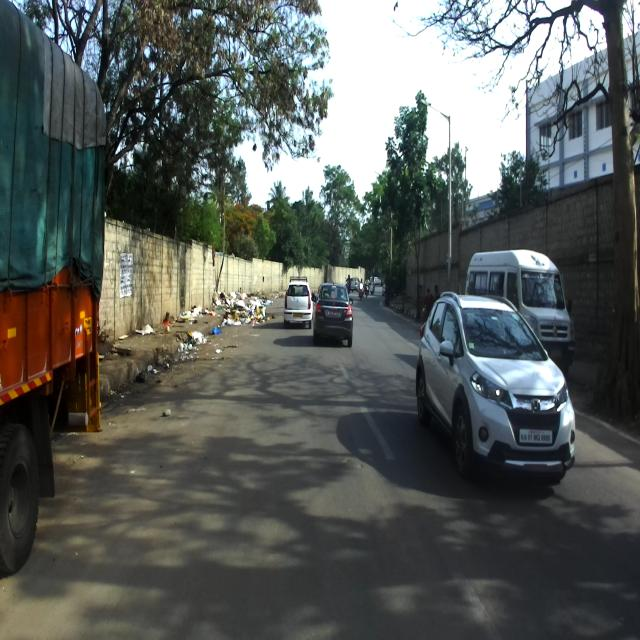car ahead at: (414, 289, 578, 485), (314, 281, 352, 344), (282, 279, 312, 339)
truck ahead at: (2, 5, 113, 568)
